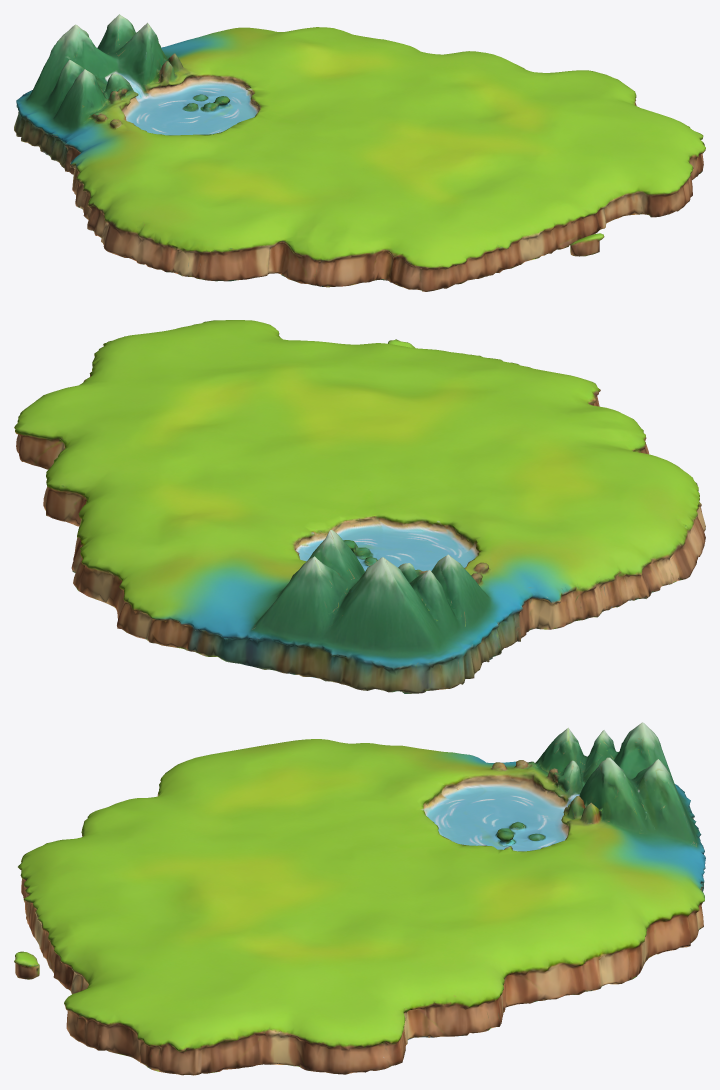
Rendered from floor.glb.
The picture shows the model from 3 angles, top to bottom: view 1: azimuth 30°, elevation 25°; view 2: azimuth 150°, elevation 25°; view 3: azimuth 270°, elevation 25°; orthographic projection. The views are drawn at different scales.
Visible parts, largest first — view 1: Mesh_0.014; view 2: Mesh_0.014; view 3: Mesh_0.014.
Boxes of the visible parts, x1=… form: Mesh_0.014: x1=14, y1=14, x2=705, y2=291; Mesh_0.014: x1=14, y1=320, x2=705, y2=693; Mesh_0.014: x1=14, y1=722, x2=705, y2=1075.
Bounding box in the file's own units: 54.76 × 9.1 × 51.8.
1 material, 1 textured.
